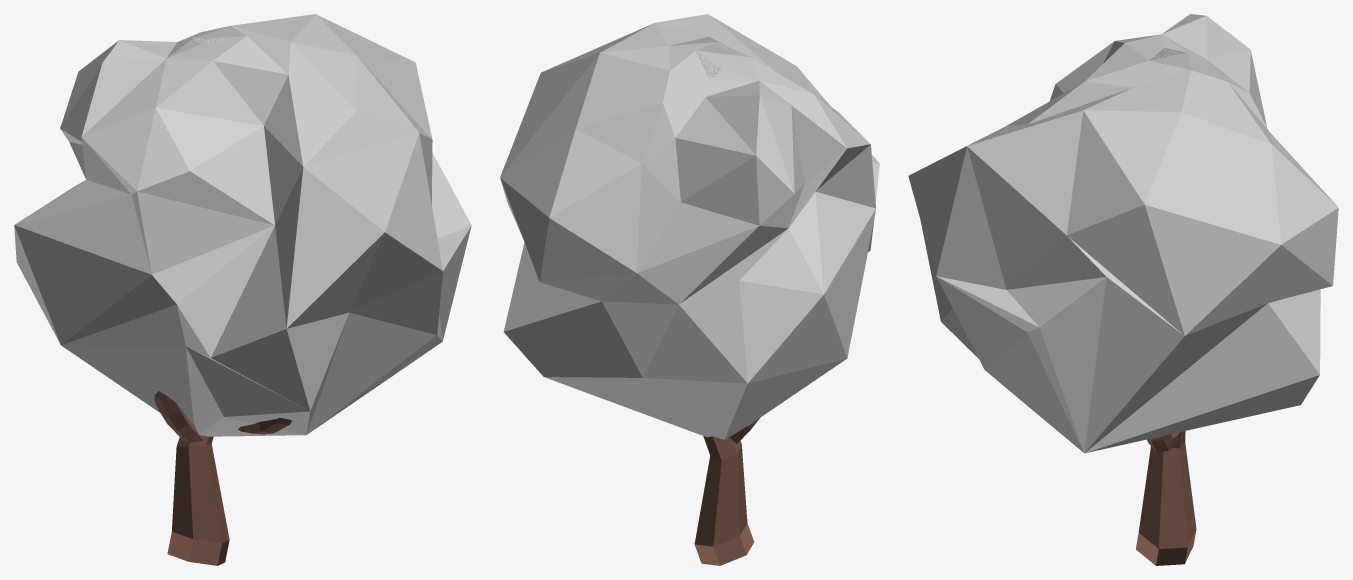
File: tree4.obj
3 views of the same model, side by side, from view 1: azimuth 30°, elevation 25°; view 2: azimuth 150°, elevation 25°; view 3: azimuth 270°, elevation 25° (orthographic). The views are drawn at different scales.
Bounding box in the file's own units: 0.7413 × 1.02 × 0.7699.
